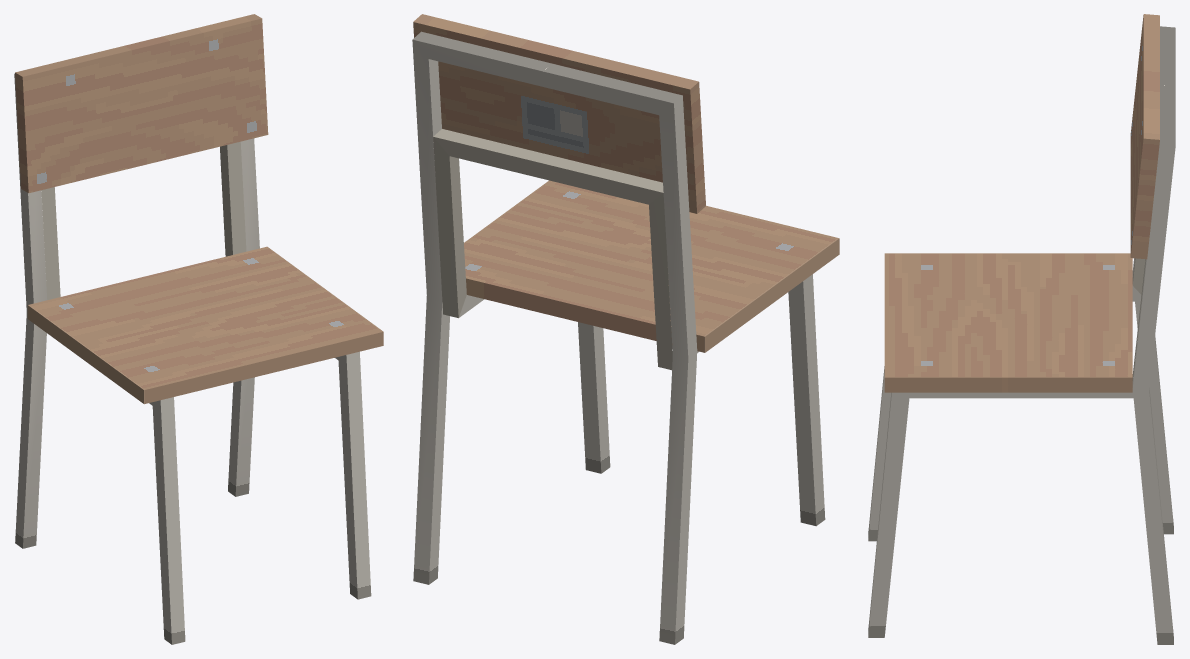
Rendered from GobelinsJPO2.glb.
The picture shows the model from 3 angles, left to right: view 1: azimuth 30°, elevation 25°; view 2: azimuth 150°, elevation 25°; view 3: azimuth 270°, elevation 25°; orthographic projection. The views are drawn at different scales.
Visible parts, largest first — view 1: part_0; view 2: part_0; view 3: part_0.
Part boxes in pixels (x1=…): part_0: x1=14, y1=14, x2=383, y2=644; part_0: x1=412, y1=14, x2=839, y2=644; part_0: x1=868, y1=14, x2=1175, y2=644.
Size of the model in its own units: 0.428 by 0.8167 by 0.4466.
1 material, 1 textured.
